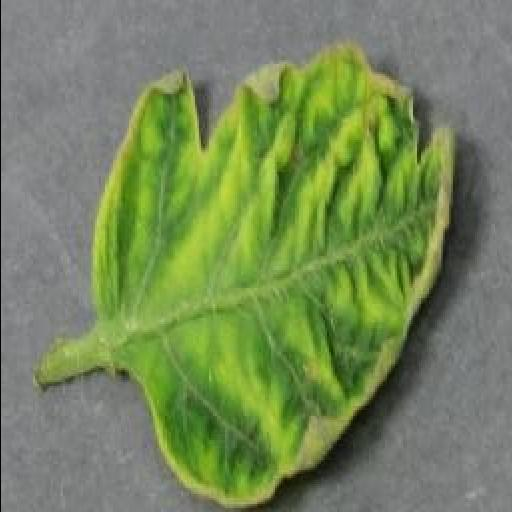disease_tomato: (90, 42, 458, 510)
